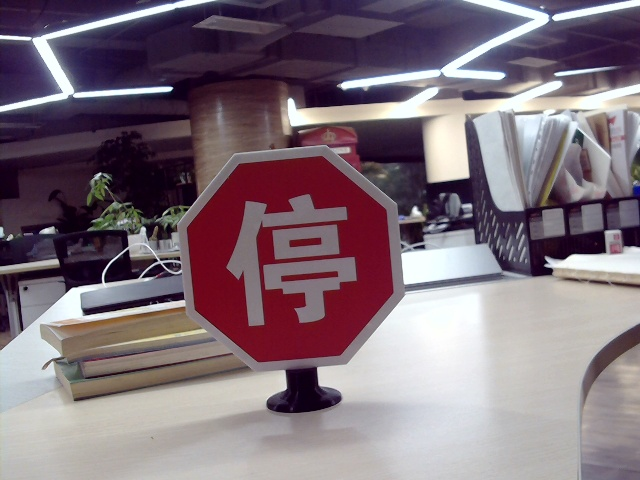stop: (225, 197, 356, 324)
